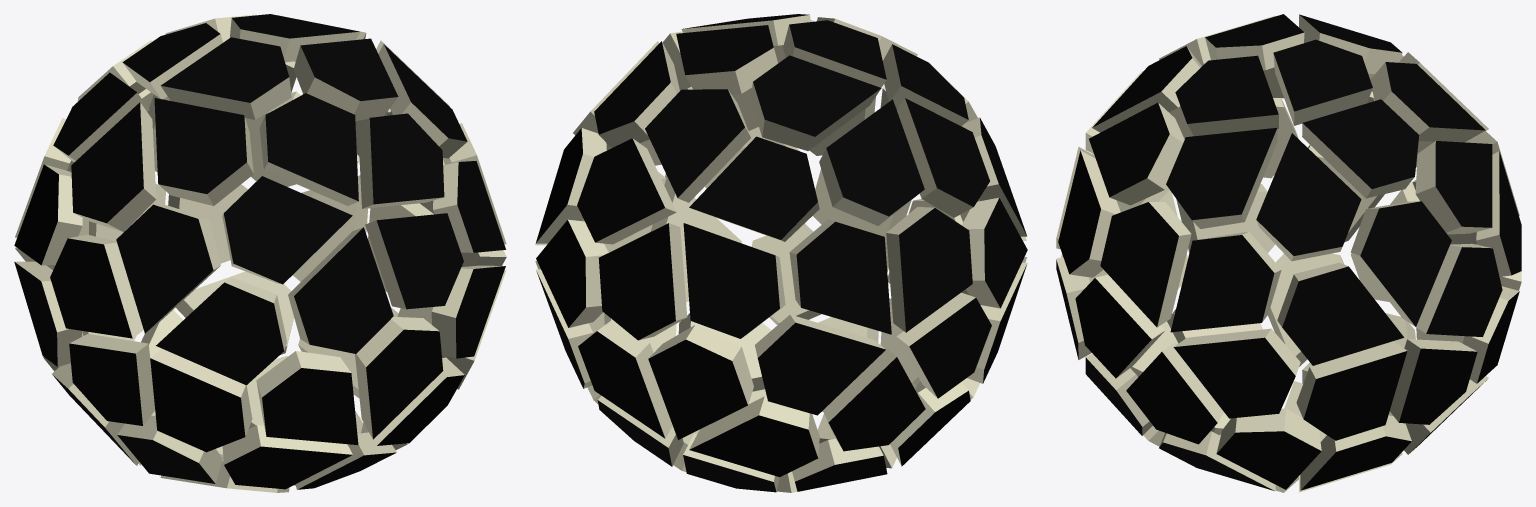
Rendered from ChargeCrystalExport1_7-11-25.fbx.
3 renders of one model, left to right at view 1: azimuth 30°, elevation 25°; view 2: azimuth 150°, elevation 25°; view 3: azimuth 270°, elevation 25°, orthographic. The views are drawn at different scales.
Visible parts, largest first — view 1: Solid.056; view 2: Solid.056; view 3: Solid.056.
Boxes of the visible parts, x1,y1,x2,y2 form: Solid.056: (14, 14, 506, 492); Solid.056: (535, 14, 1027, 492); Solid.056: (1056, 14, 1521, 492).
Size of the model in its own units: 2.03 by 2.03 by 2.03.
